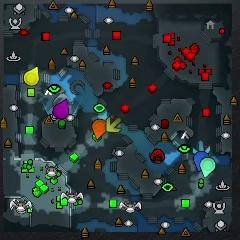p1: (194, 151, 209, 170)
p2: (200, 157, 215, 177)
p3: (54, 99, 69, 120)
p4: (24, 66, 38, 86)
p5: (93, 120, 107, 138)
x2: (106, 117, 122, 132)
x3: (192, 141, 211, 155)
